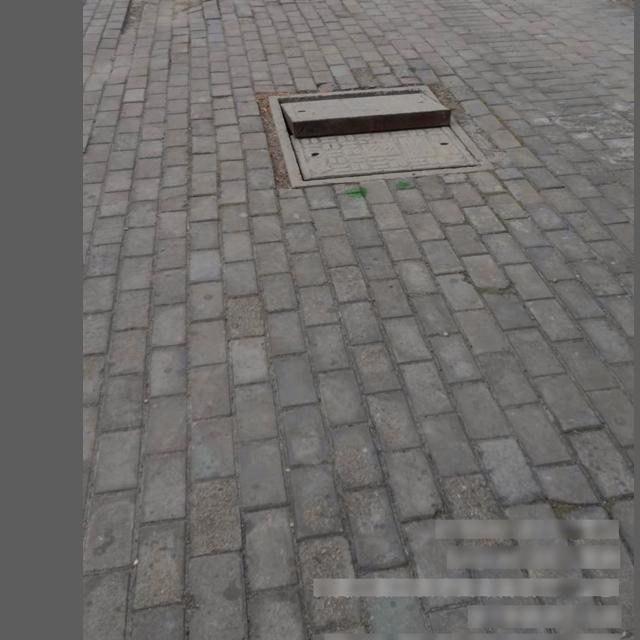uncovered: (271, 81, 496, 187)
